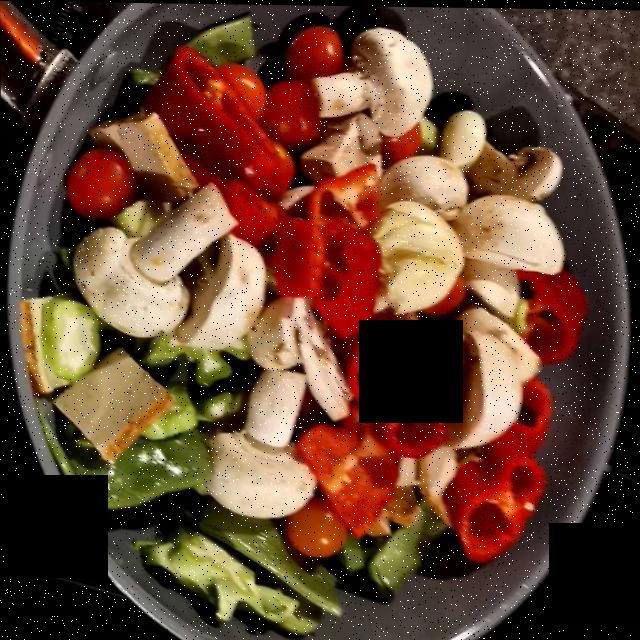french-beans: (135, 15, 446, 577)
tomato-raw: (70, 26, 421, 565)
